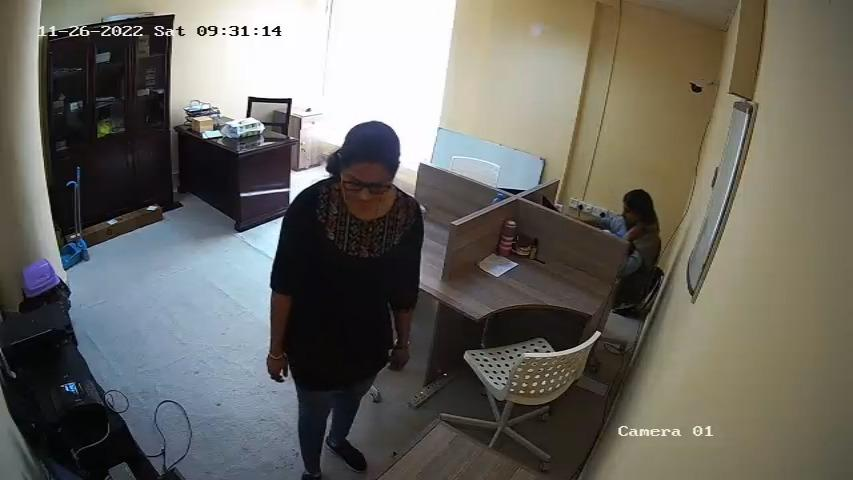no_apron: (304, 210, 401, 366)
